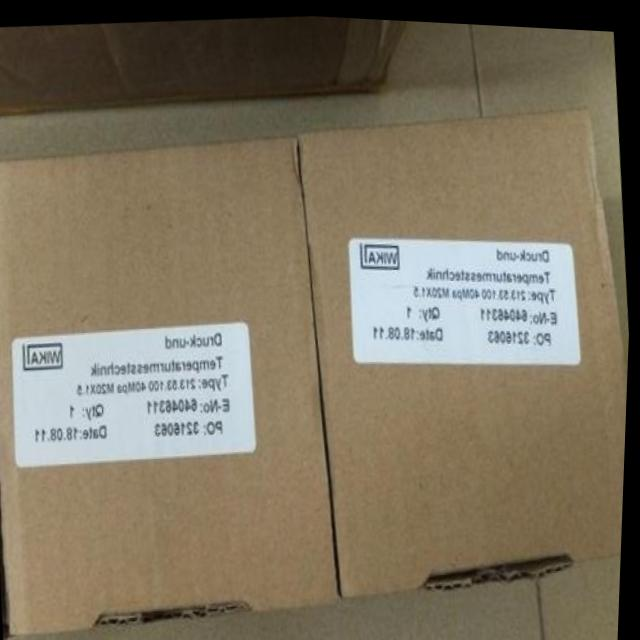box: (0, 130, 344, 636), (298, 100, 630, 595)
